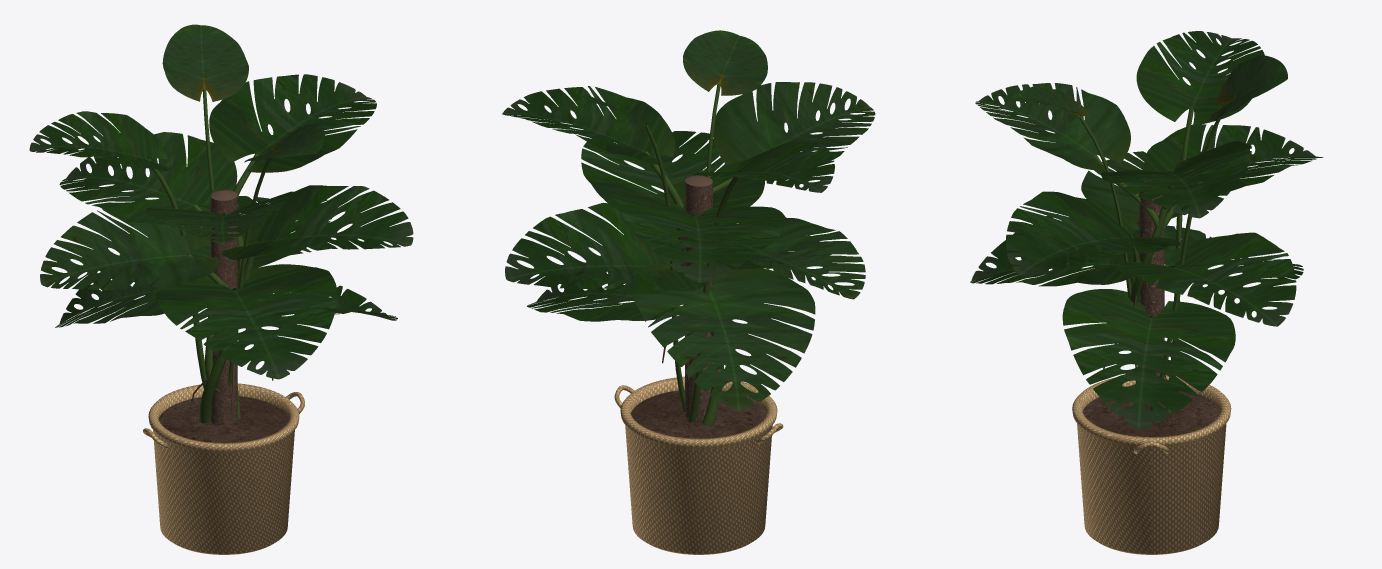
The model's file is monstera_120.glb.
3 views of the same model, side by side, from view 1: azimuth 30°, elevation 25°; view 2: azimuth 150°, elevation 25°; view 3: azimuth 270°, elevation 25° (orthographic). The views are drawn at different scales.
Parts seen in each view (by area): view 1: monstera_120; view 2: monstera_120; view 3: monstera_120.
Part boxes in pixels (left/top/right/bottom): monstera_120: left=29, top=24, right=413, bottom=554; monstera_120: left=502, top=30, right=875, bottom=554; monstera_120: left=970, top=31, right=1323, bottom=554.
Bounding box in the file's own units: 1 × 1.2 × 0.9501.
4 materials, 4 textured.
